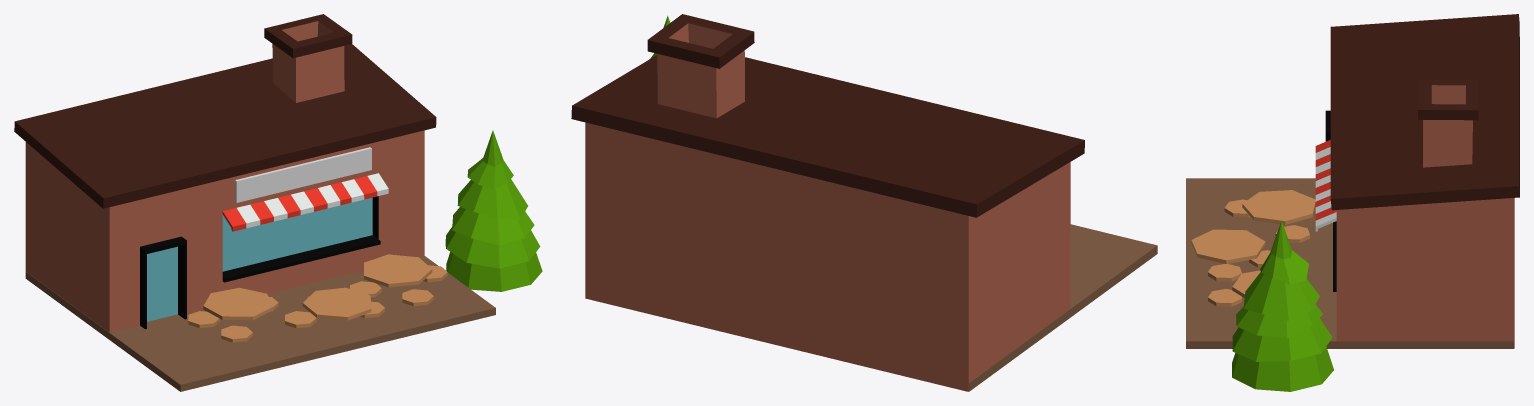
Rendered from imbiss_restaurant_6x4.fbx.
The picture shows the model from 3 angles, left to right: view 1: azimuth 30°, elevation 25°; view 2: azimuth 150°, elevation 25°; view 3: azimuth 270°, elevation 25°; orthographic projection. The views are drawn at different scales.
Parts seen in each view (by area): view 1: Cube.002; view 2: Cube.002; view 3: Cube.002.
Part boxes in pixels (x1,y1,x2,y2): Cube.002: (14, 14, 542, 391); Cube.002: (571, 14, 1157, 391); Cube.002: (1186, 14, 1519, 391).
Size of the model in its own units: 605 by 295 by 404.
